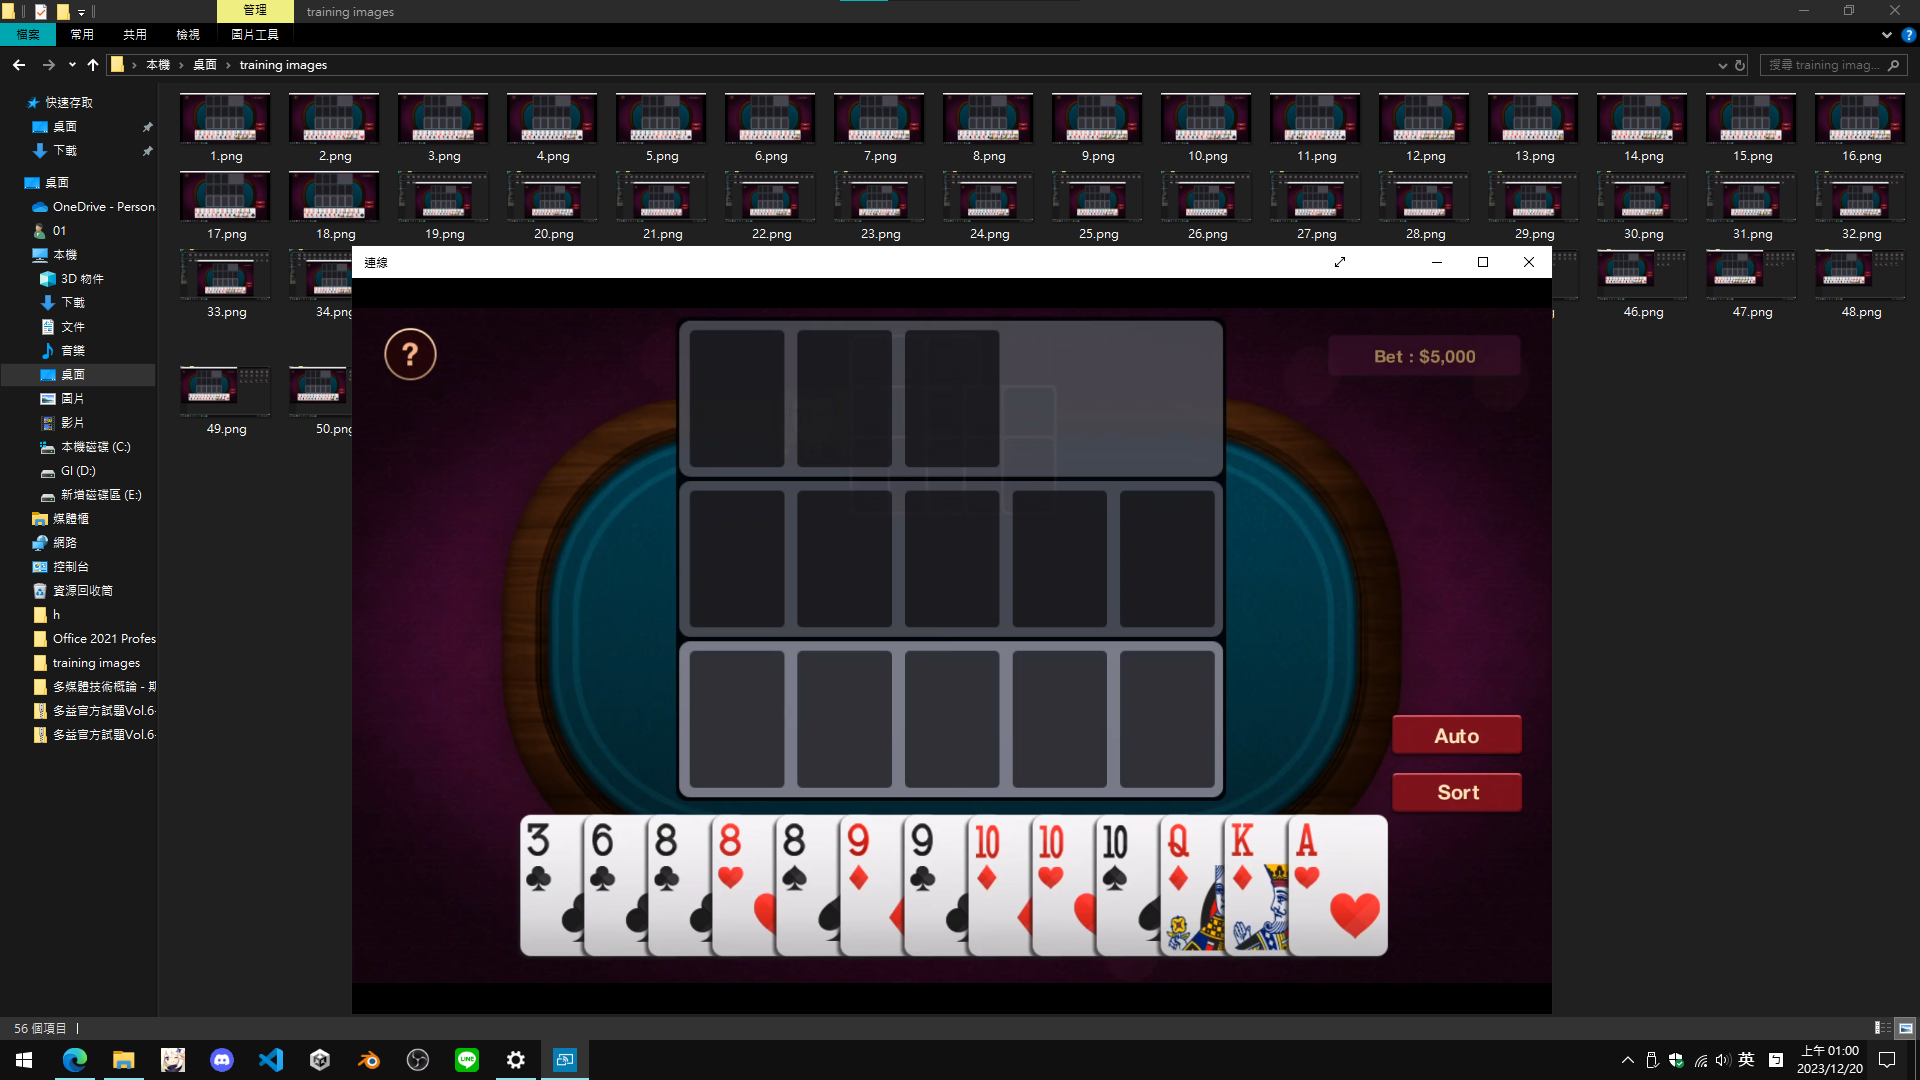10D: (972, 822, 1002, 895)
10H: (1036, 822, 1068, 893)
10S: (1100, 820, 1131, 897)
3C: (524, 818, 556, 895)
6C: (588, 819, 620, 895)
8C: (650, 819, 683, 897)
8H: (717, 820, 746, 893)
8S: (781, 819, 811, 894)
9C: (909, 822, 940, 895)
9D: (844, 822, 873, 895)
AH: (1291, 820, 1323, 897)
KD: (1228, 819, 1257, 894)
QD: (1164, 822, 1193, 895)
